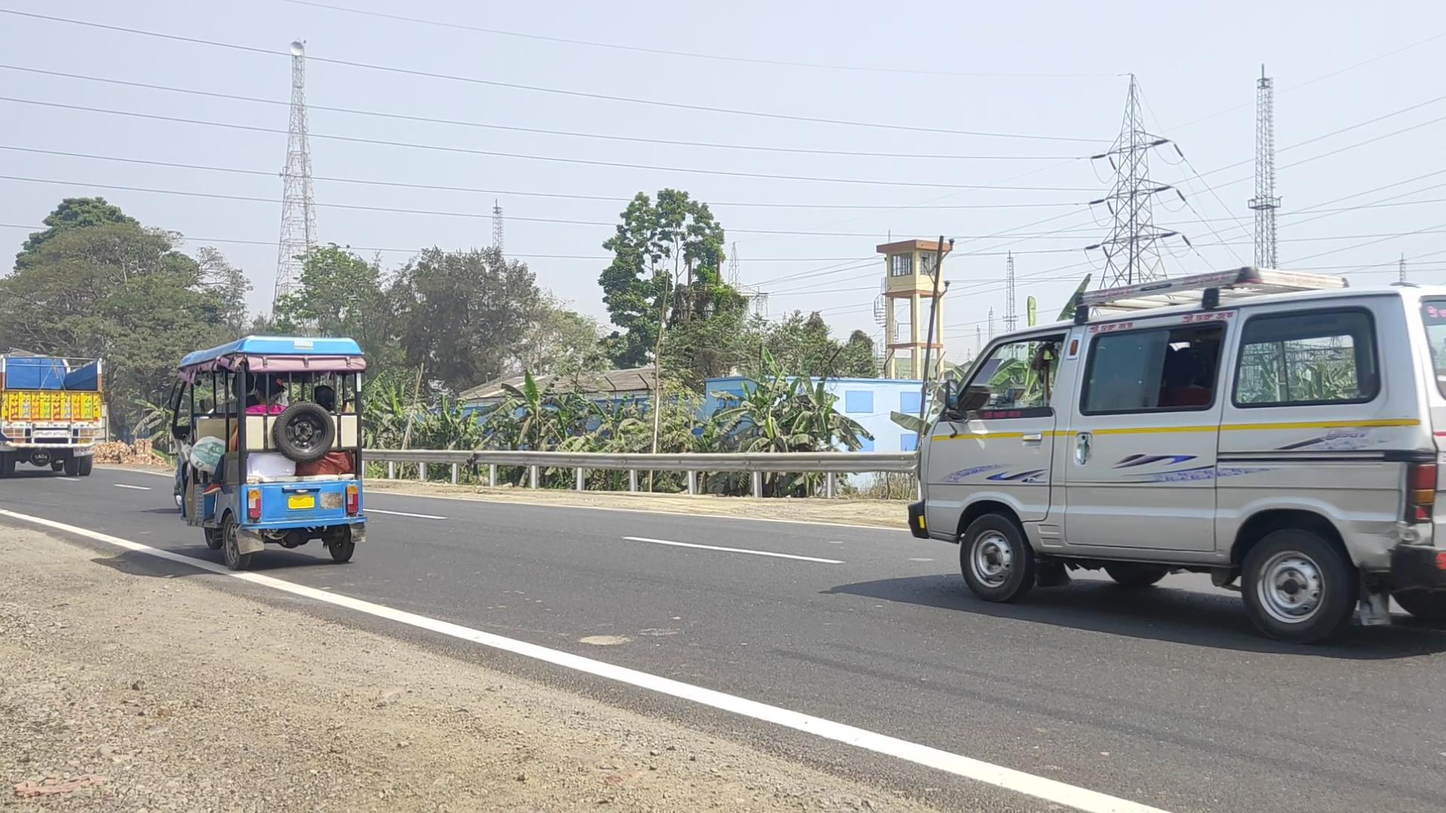Auto: (169, 335, 368, 571)
truck: (1, 352, 102, 479)
van: (908, 266, 1446, 644)
